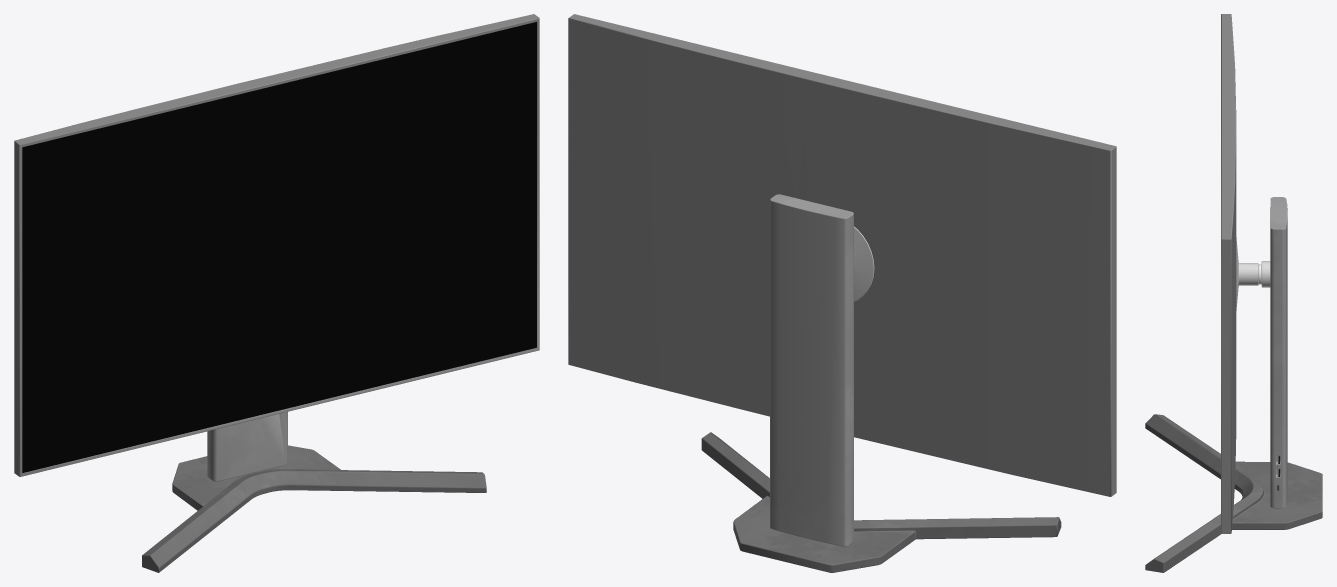
The model's file is mon-asus-va24ehf_lod1.glb.
3 renders of one model, left to right at view 1: azimuth 30°, elevation 25°; view 2: azimuth 150°, elevation 25°; view 3: azimuth 270°, elevation 25°, orthographic. The views are drawn at different scales.
Parts seen in each view (by area): view 1: body; view 2: body; view 3: body.
Boxes of the visible parts, <box> form: body: <box>14,14,539,572</box>; body: <box>568,14,1116,572</box>; body: <box>1145,14,1322,572</box>.
Size of the model in its own units: 0.54 by 0.417 by 0.1798.
2 materials, 1 textured.
